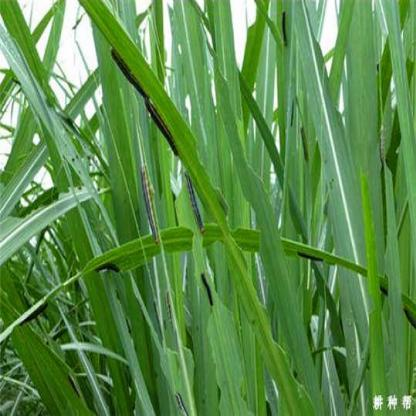armyworm: (142, 100, 185, 164), (109, 43, 150, 101), (137, 162, 162, 250), (180, 170, 206, 245), (14, 300, 53, 328), (95, 260, 124, 283), (296, 247, 330, 266), (297, 122, 309, 168), (200, 272, 214, 310), (280, 6, 290, 53)
